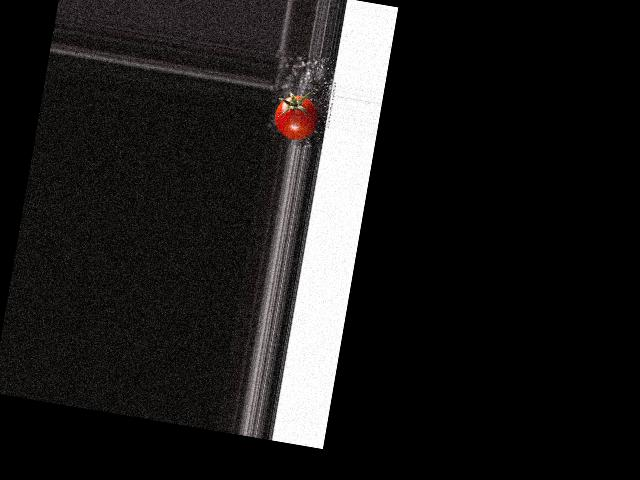tomato: (271, 92, 321, 142)
